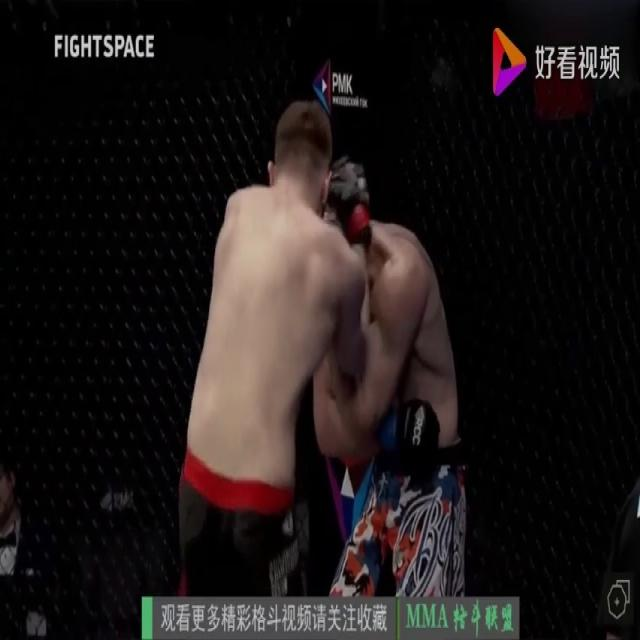fight: (174, 96, 465, 640)
